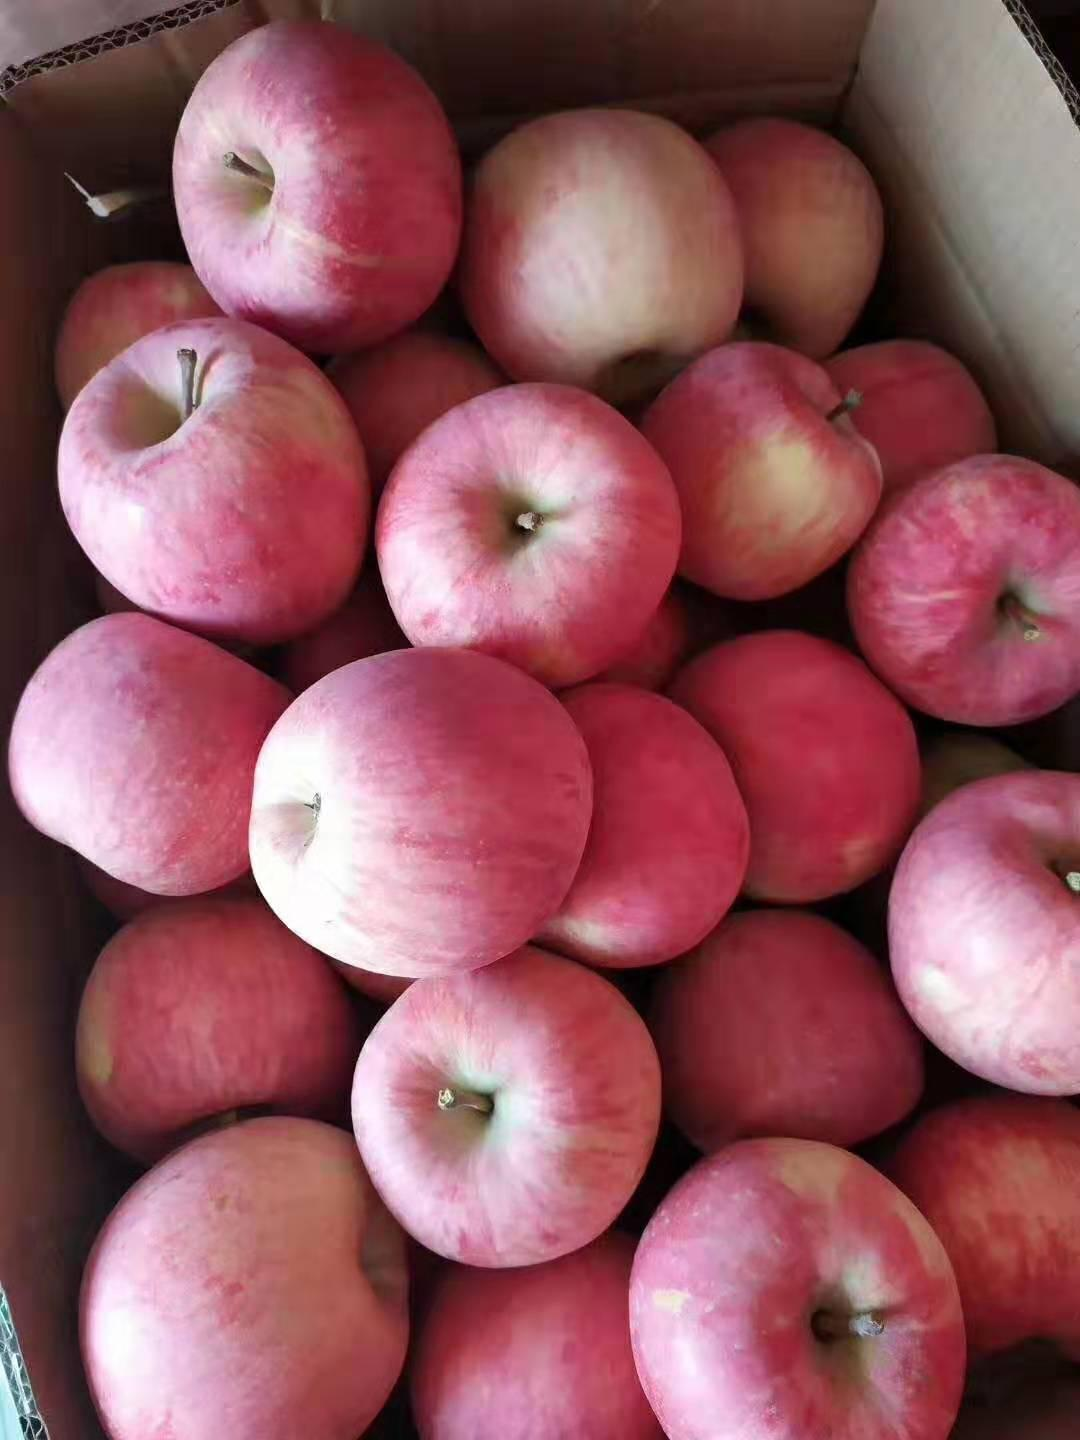apple: (250, 637, 594, 974), (52, 316, 370, 661), (71, 1116, 414, 1429), (168, 12, 465, 369), (624, 1130, 967, 1437), (348, 945, 665, 1270), (374, 382, 684, 691), (464, 102, 745, 393), (10, 610, 294, 898), (74, 887, 362, 1160), (666, 632, 922, 912), (841, 448, 1080, 737), (884, 770, 1080, 1096), (661, 910, 925, 1151), (638, 345, 884, 601), (886, 1089, 1078, 1381), (53, 255, 248, 400)
